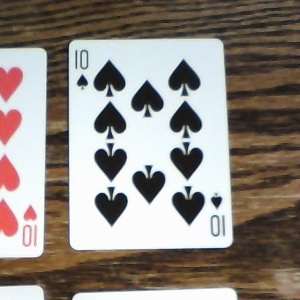card: (66, 37, 234, 249)
